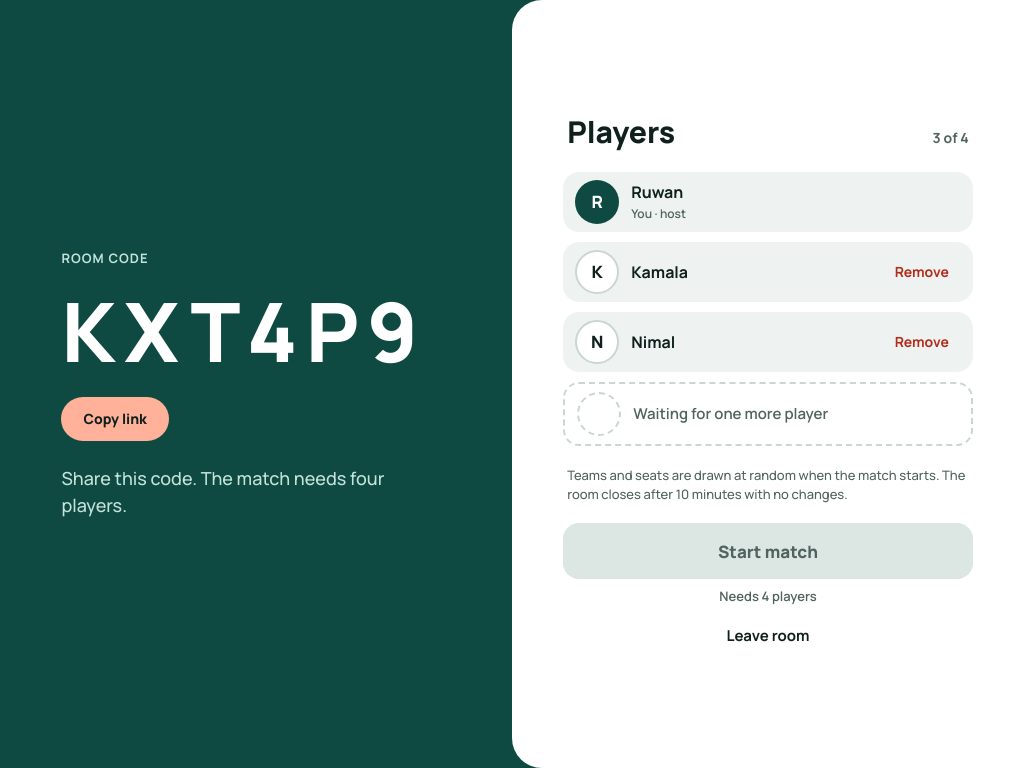
Scenario: in a room › shows the lobby before the match and lets the player leave
Click the button "Leave room" at (768, 635), box [563,613,973,657]
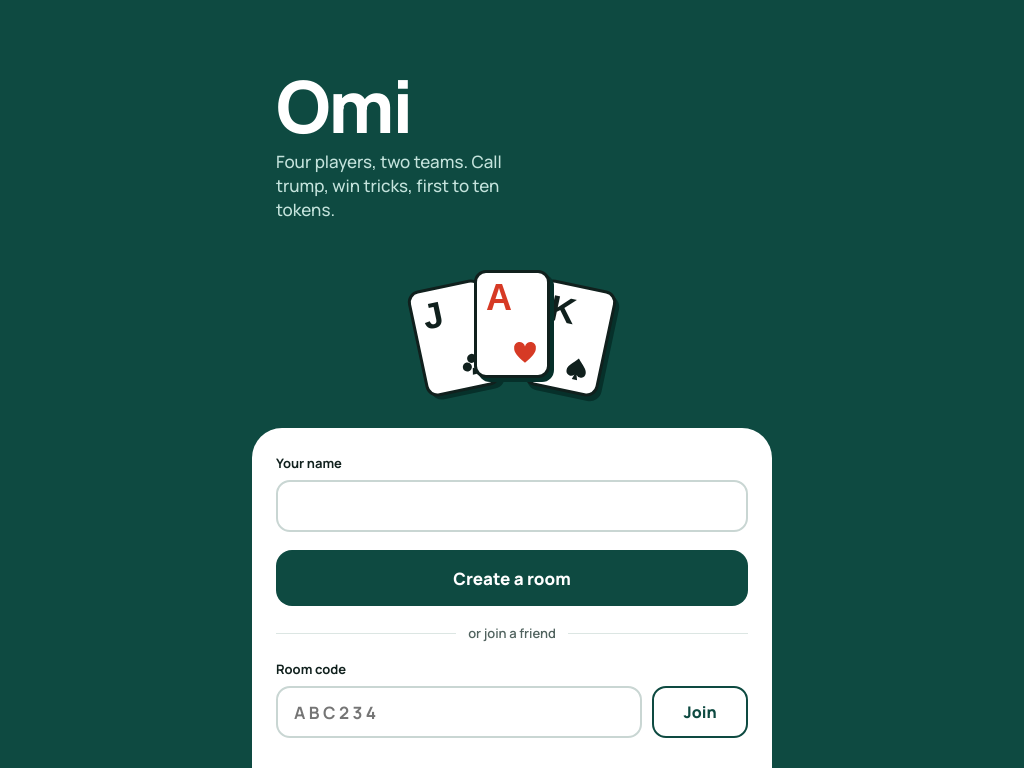
Result: the button "Create a room" is shown at [276,550,748,606]
